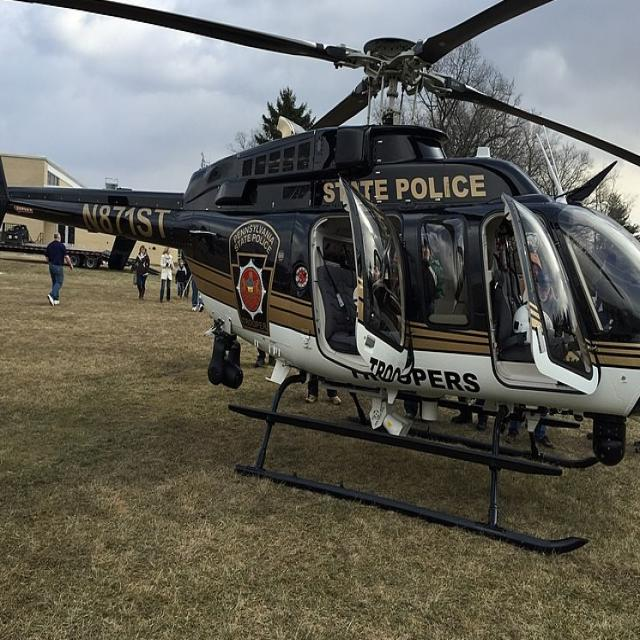helicopter: (1, 1, 640, 556)
